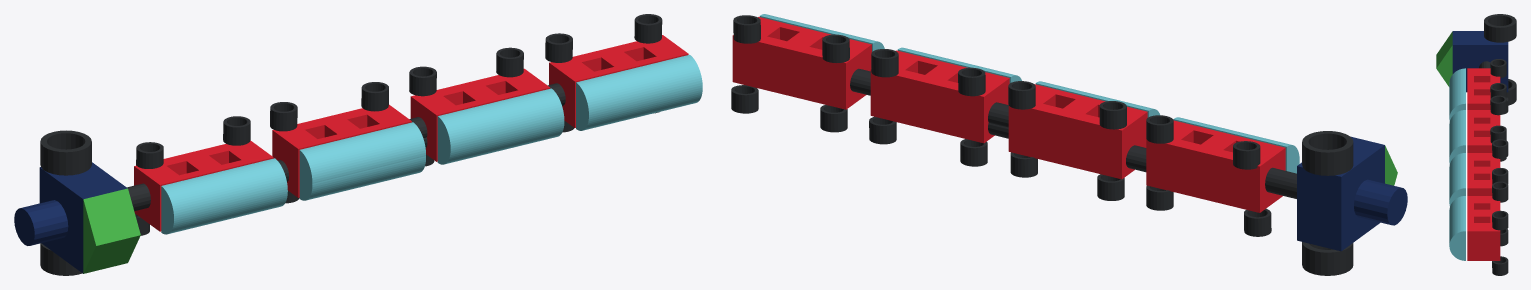
Rendered from tinker.obj.
The picture shows the model from 3 angles, left to right: view 1: azimuth 30°, elevation 25°; view 2: azimuth 150°, elevation 25°; view 3: azimuth 270°, elevation 25°; orthographic projection. The views are drawn at different scales.
Visible parts, largest first — view 1: group_0_7720667, group_0_15277357, group_0_2829873, group_0_1650274, group_0_4634441; view 2: group_0_15277357, group_0_2829873, group_0_1650274, group_0_7720667; view 3: group_0_15277357, group_0_2829873, group_0_7720667, group_0_1650274, group_0_4634441.
Boxes of the visible parts, <box> form: group_0_7720667: <box>161,54,702,234</box>; group_0_15277357: <box>134,35,688,231</box>; group_0_2829873: <box>40,14,662,275</box>; group_0_1650274: <box>14,162,127,273</box>; group_0_4634441: <box>83,188,140,273</box>; group_0_15277357: <box>732,17,1285,212</box>; group_0_2829873: <box>731,15,1353,275</box>; group_0_1650274: <box>1297,136,1407,251</box>; group_0_7720667: <box>759,14,1299,173</box>; group_0_15277357: <box>1467,68,1500,260</box>; group_0_2829873: <box>1479,14,1516,275</box>; group_0_7720667: <box>1449,68,1465,260</box>; group_0_1650274: <box>1452,31,1508,92</box>; group_0_4634441: <box>1436,31,1452,86</box>.
Bounding box in the file's own units: 292 × 53 × 49.
